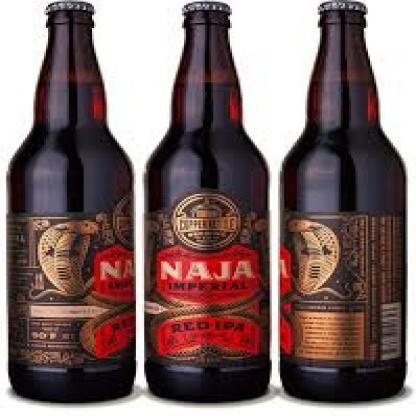trash: (8, 1, 134, 401), (280, 0, 405, 400), (145, 2, 269, 400)
